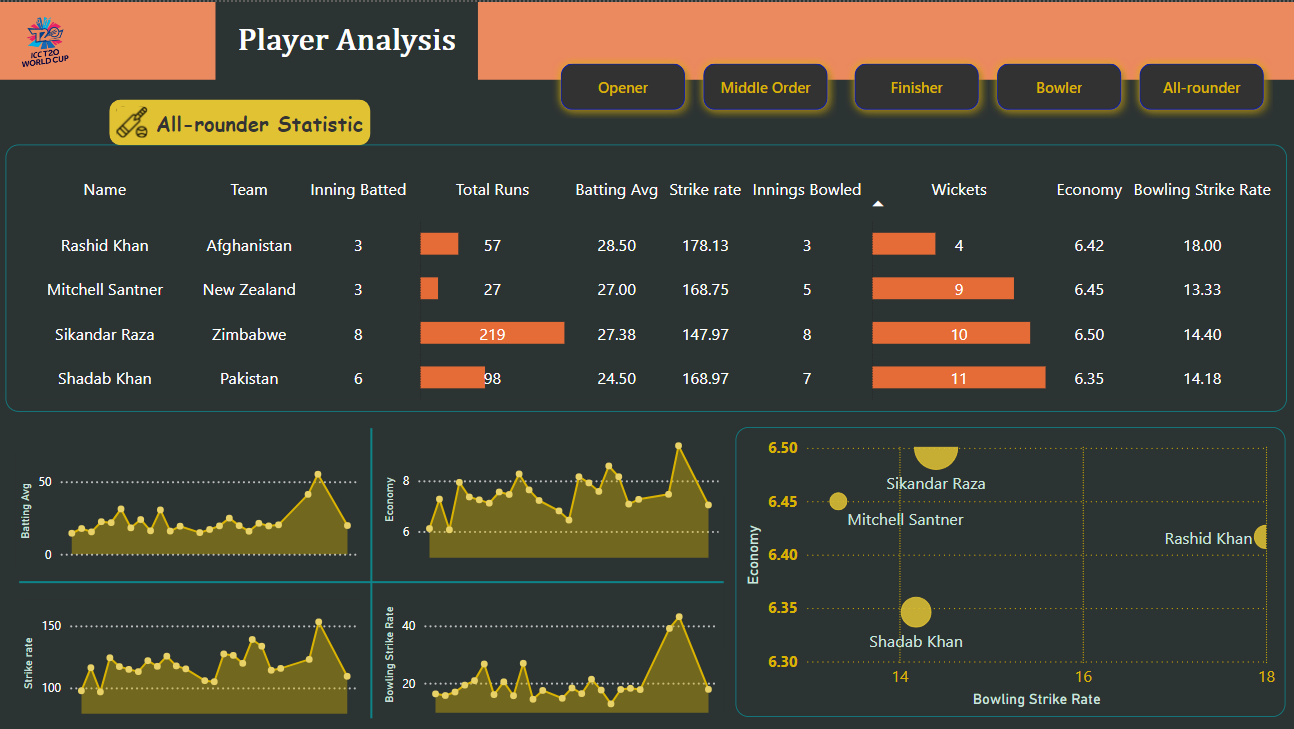

The dashboard page shown, as its layout file describes it:
{"tool":"powerbi","page":{"name":"All Rounder","canvas":[1280,720],"ordinal":4},"visuals":[{"type":"tableEx","title":"Specialist Fast Bowler / Tail End","fields":{"Values":["dim_players.name","dim_players.team","Key_measures.Total Inning Batted","Key_measures.Total Runs","Key_measures.Batting Avg","Key_measures.Strike rate","Key_measures.Totla Innings Bowled","Key_measures.Wickets","Key_measures.Economy","Key_measures.Bowling Strike Rate"]},"box":[7.3,140.6,1265.6,264.1],"z":0},{"type":"textbox","box":[0,0,1280.3,76.8],"z":1000},{"type":"scatterChart","fields":{"Category":["dim_players.name"],"Size":["Key_measures.Total Runs"],"X":["Key_measures.Bowling Strike Rate"],"Y":["Key_measures.Economy"]},"box":[728.6,419.9,543.4,286.8],"z":2000},{"type":"lineChart","fields":{"Category":["dim_match_summary.matchDate"],"Y":["Key_measures.Bowling Strike Rate"]},"box":[376,573.6,340.3,133.1],"z":3000},{"type":"lineChart","fields":{"Category":["dim_match_summary.matchDate"],"Y":["Key_measures.Strike rate"]},"box":[19.2,590.1,340.3,118],"z":4000},{"type":"lineChart","fields":{"Category":["dim_match_summary.matchDate"],"Y":["Key_measures.Batting Avg"]},"box":[17.8,446,343.1,113.9],"z":5000},{"type":"lineChart","fields":{"Category":["dim_match_summary.matchDate"],"Y":["Key_measures.Economy"]},"box":[376,421.3,340.3,133.1],"z":6000},{"type":"shape","box":[341.7,421.3,53.5,286.8],"z":7000},{"type":"shape","box":[20.6,559.9,695.7,27.4],"z":8000},{"type":"textbox","box":[215.2,0,259.2,79.5],"z":9000},{"type":"image","box":[0,0,100.3,83.2],"z":10000},{"type":"actionButton","box":[546.6,51.4,140.6,63.6],"z":11000,"group":"g1"},{"type":"group","id":"g1","title":"Group 1","box":[546.6,51.4,711.7,63.6],"z":11000},{"type":"actionButton","box":[687.2,51.4,140.6,63.6],"z":12000,"group":"g1"},{"type":"actionButton","box":[110.1,96.6,258,45.2],"z":12000},{"type":"actionButton","box":[836.4,51.4,140.6,63.6],"z":13000,"group":"g1"},{"type":"actionButton","box":[1117.7,51.4,140.6,63.6],"z":14000,"group":"g1"},{"type":"actionButton","box":[977,51.4,140.6,63.6],"z":15000,"group":"g1"}]}

Visuals, with their boxes in screenshot pixels (x1, y1, x2, y2), scaled from the page's 1280x720 canvas onto the 1294x729 screenshot:
"Specialist Fast Bowler / Tail End" tableEx: left=7, top=142, right=1287, bottom=410
textbox: left=0, top=0, right=1293, bottom=78
scatterChart - dim_players.name x Key_measures.Total Runs: left=737, top=425, right=1286, bottom=716
lineChart - dim_match_summary.matchDate x Key_measures.Bowling Strike Rate: left=380, top=581, right=724, bottom=716
lineChart - dim_match_summary.matchDate x Key_measures.Strike rate: left=19, top=597, right=363, bottom=717
lineChart - dim_match_summary.matchDate x Key_measures.Batting Avg: left=18, top=452, right=365, bottom=567
lineChart - dim_match_summary.matchDate x Key_measures.Economy: left=380, top=427, right=724, bottom=561
shape: left=345, top=427, right=400, bottom=717
shape: left=21, top=567, right=724, bottom=595
textbox: left=218, top=0, right=480, bottom=80
image: left=0, top=0, right=101, bottom=84
actionButton: left=553, top=52, right=695, bottom=116
"Group 1" group: left=553, top=52, right=1272, bottom=116
actionButton: left=695, top=52, right=837, bottom=116
actionButton: left=111, top=98, right=372, bottom=144
actionButton: left=846, top=52, right=988, bottom=116
actionButton: left=1130, top=52, right=1272, bottom=116
actionButton: left=988, top=52, right=1130, bottom=116
